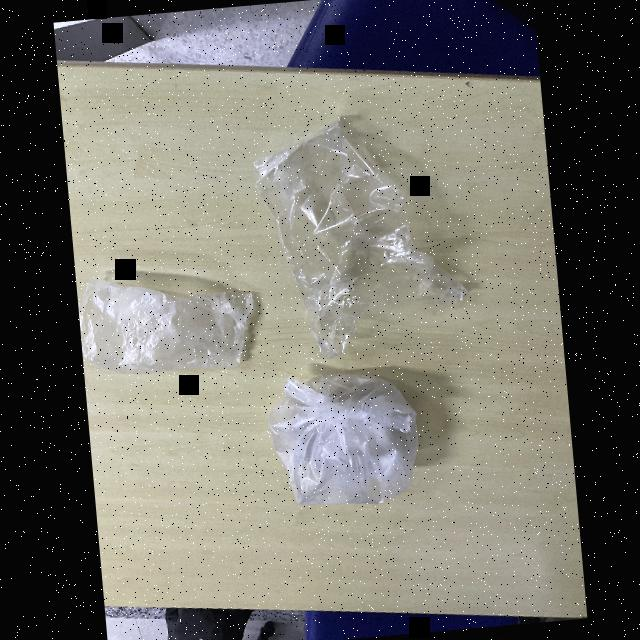plastic_bag: (245, 106, 468, 366), (266, 357, 428, 521), (75, 258, 268, 384)
